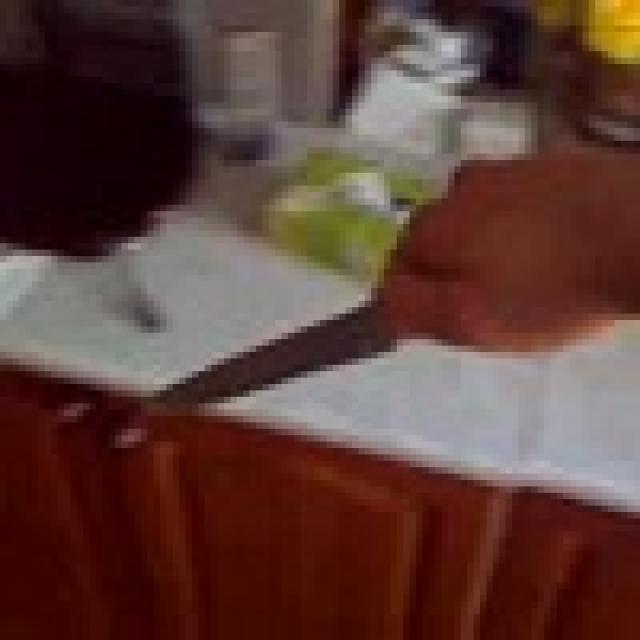Knife: (115, 282, 416, 428)
